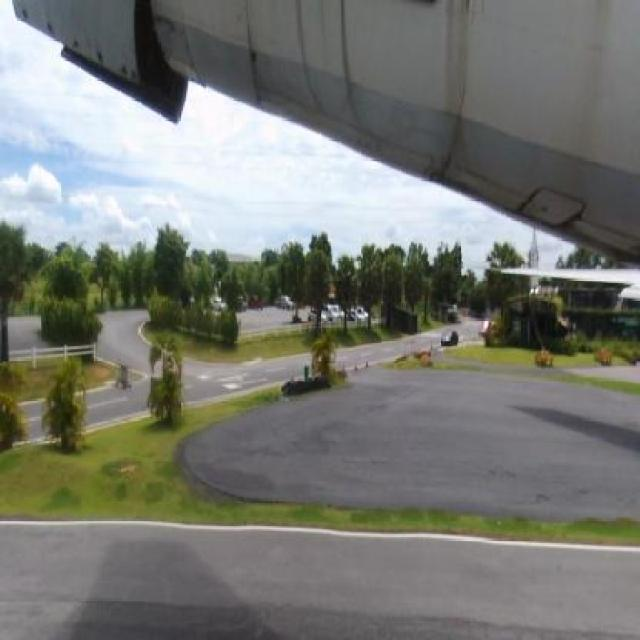Rust: (278, 3, 380, 139), (426, 1, 486, 185), (227, 2, 268, 93), (555, 204, 591, 250), (154, 6, 177, 72), (510, 181, 544, 224), (115, 59, 142, 90), (17, 2, 38, 30), (88, 41, 108, 70), (67, 30, 82, 56), (42, 12, 58, 36)
